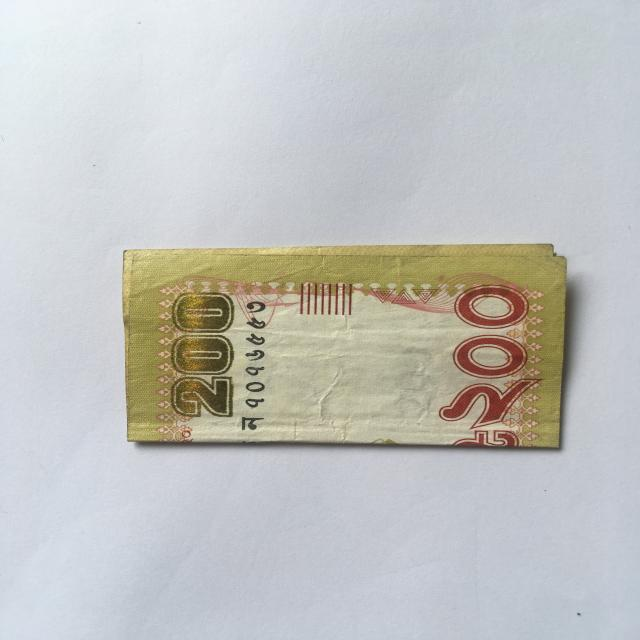Taka: (111, 237, 585, 452)
